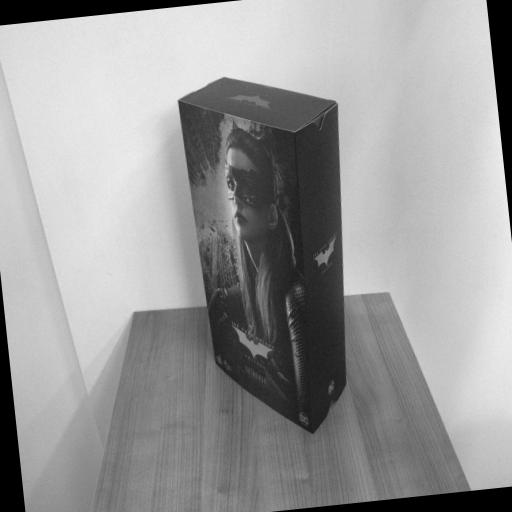catwoman: (176, 64, 372, 444)
